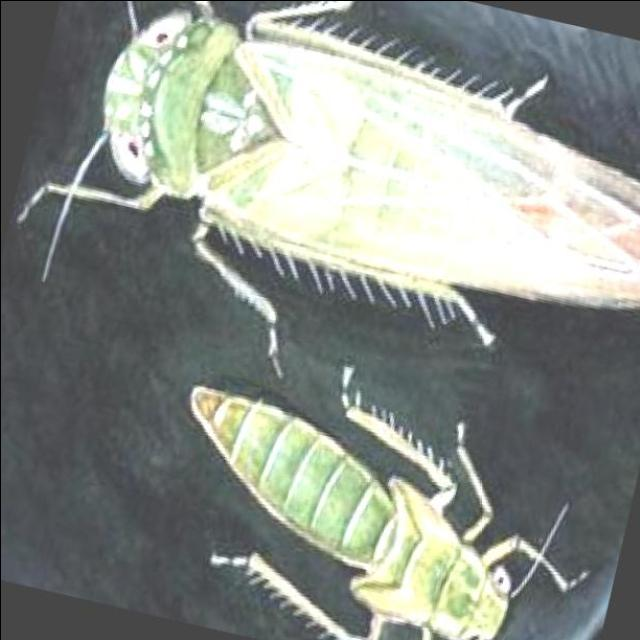green leaf hopper: (17, 0, 640, 378), (189, 365, 586, 640)
